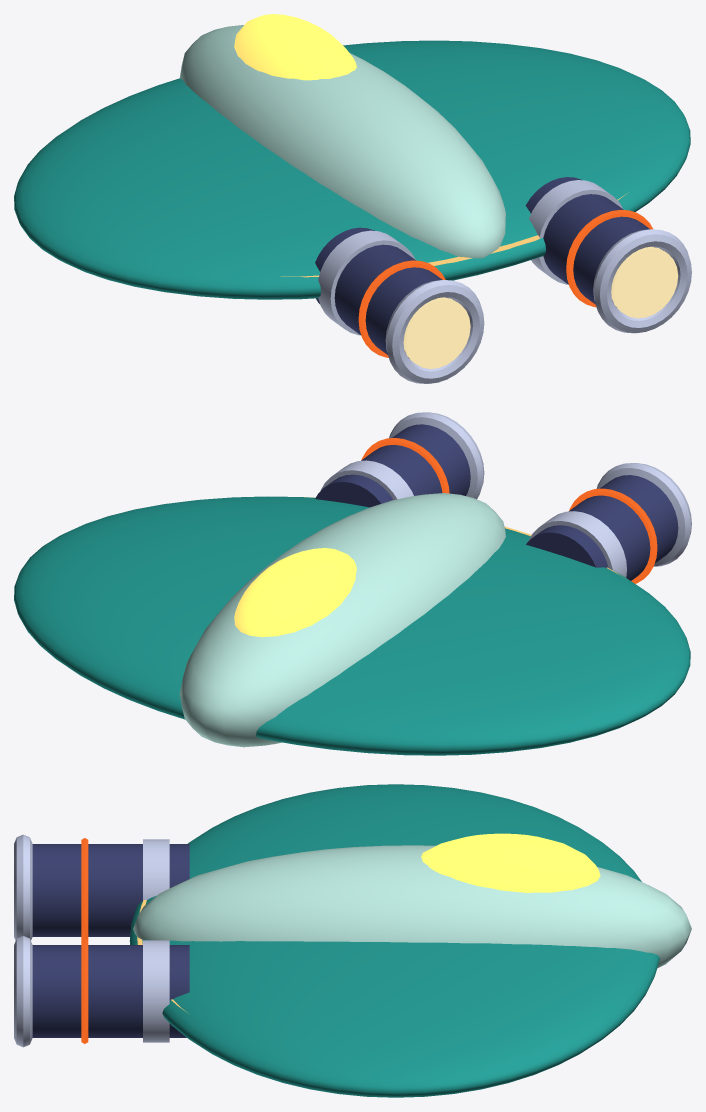
The model's file is manta.glb.
The picture shows the model from 3 angles, top to bottom: view 1: azimuth 30°, elevation 25°; view 2: azimuth 150°, elevation 25°; view 3: azimuth 270°, elevation 25°; orthographic projection.
Visible parts, largest first — view 1: Sphere, Sphere.001, Sphere.002, Cylinder, Cylinder.003, Torus.020, Torus.018, Cylinder.005, Cylinder.002, Cylinder.001, Cylinder.004, Torus.021 (+1 smaller); view 2: Sphere, Sphere.001, Sphere.002, Cylinder, Cylinder.003, Torus.018, Torus.020, Cylinder.001, Cylinder.004, Torus.019, Torus.021; view 3: Sphere, Sphere.001, Cylinder.003, Cylinder, Sphere.002, Cylinder.004, Torus.020, Torus.018, Cylinder.001, Torus.021, Torus.019.
Boxes of the visible parts, x1,y1,x2,y2 form: Sphere: (14, 40, 690, 299); Sphere.001: (180, 25, 505, 258); Sphere.002: (234, 14, 356, 80); Cylinder: (315, 227, 453, 358); Cylinder.003: (525, 177, 663, 307); Torus.020: (593, 229, 691, 333); Torus.018: (385, 280, 484, 383); Cylinder.005: (611, 246, 678, 318); Cylinder.002: (403, 297, 470, 368); Cylinder.001: (318, 230, 415, 335); Cylinder.004: (529, 180, 623, 284); Torus.021: (566, 209, 652, 307); Sphere: (14, 496, 690, 755); Sphere.001: (179, 493, 505, 747); Sphere.002: (234, 548, 356, 637); Cylinder: (526, 475, 678, 580); Cylinder.003: (315, 424, 470, 507); Torus.018: (596, 463, 691, 566); Torus.020: (389, 412, 484, 499); Cylinder.001: (529, 511, 626, 577); Cylinder.004: (320, 460, 413, 499); Torus.019: (569, 488, 657, 583); Torus.021: (361, 438, 449, 493); Sphere: (129, 784, 659, 1097); Sphere.001: (133, 845, 691, 968); Cylinder.003: (32, 945, 189, 1037); Cylinder: (32, 844, 189, 936); Sphere.002: (421, 833, 600, 892); Cylinder.004: (143, 940, 169, 1042); Torus.020: (14, 936, 32, 1047); Torus.018: (14, 834, 32, 940); Cylinder.001: (143, 839, 169, 900); Torus.021: (81, 939, 88, 1043); Torus.019: (81, 838, 88, 940).
Size of the model in its own units: 2.16 by 0.54 by 2.04.
